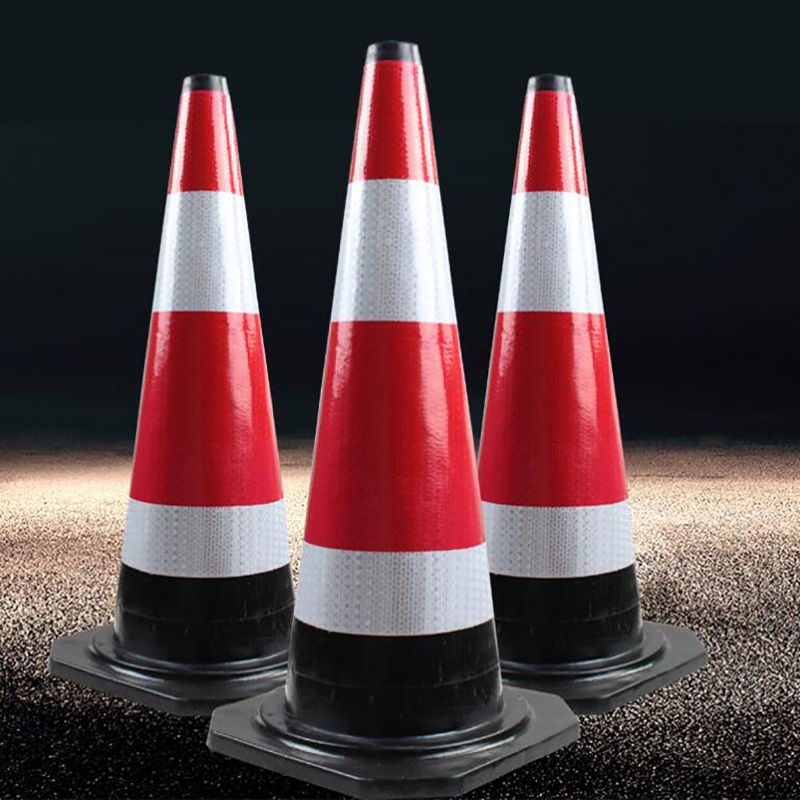traffic_cone: (235, 31, 565, 793), (60, 60, 327, 703), (458, 79, 703, 719)
